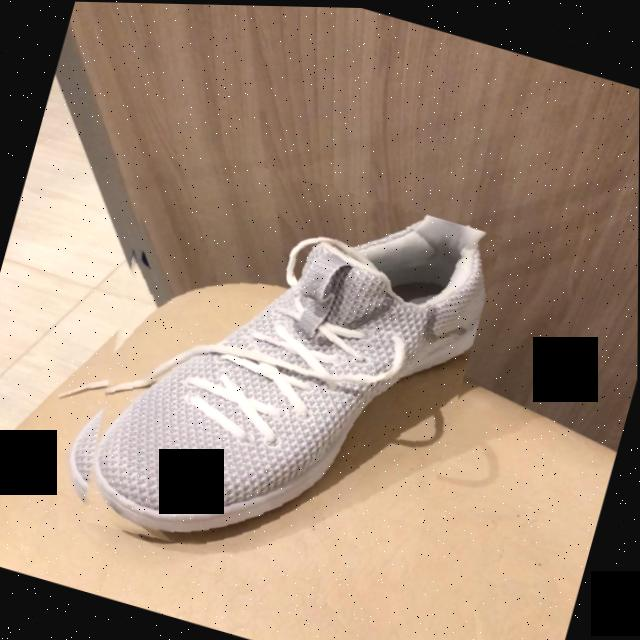shoe: (86, 213, 487, 543)
